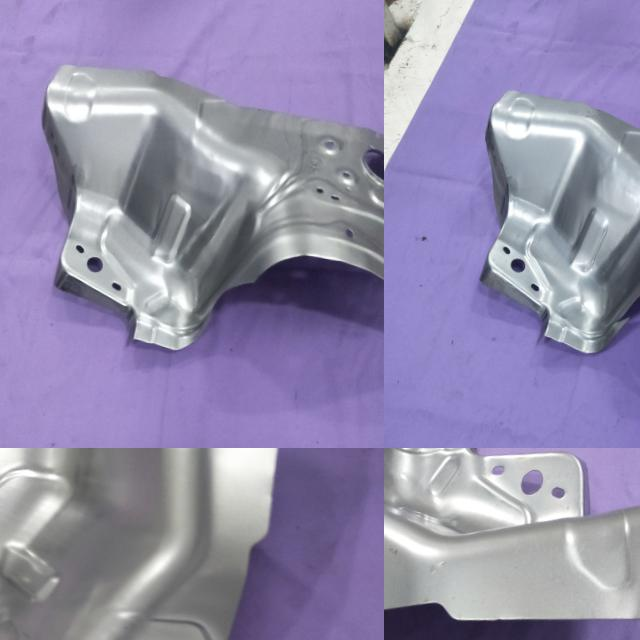Defect: (182, 265, 259, 349), (597, 277, 640, 355)
Healthy: (384, 448, 640, 640)
